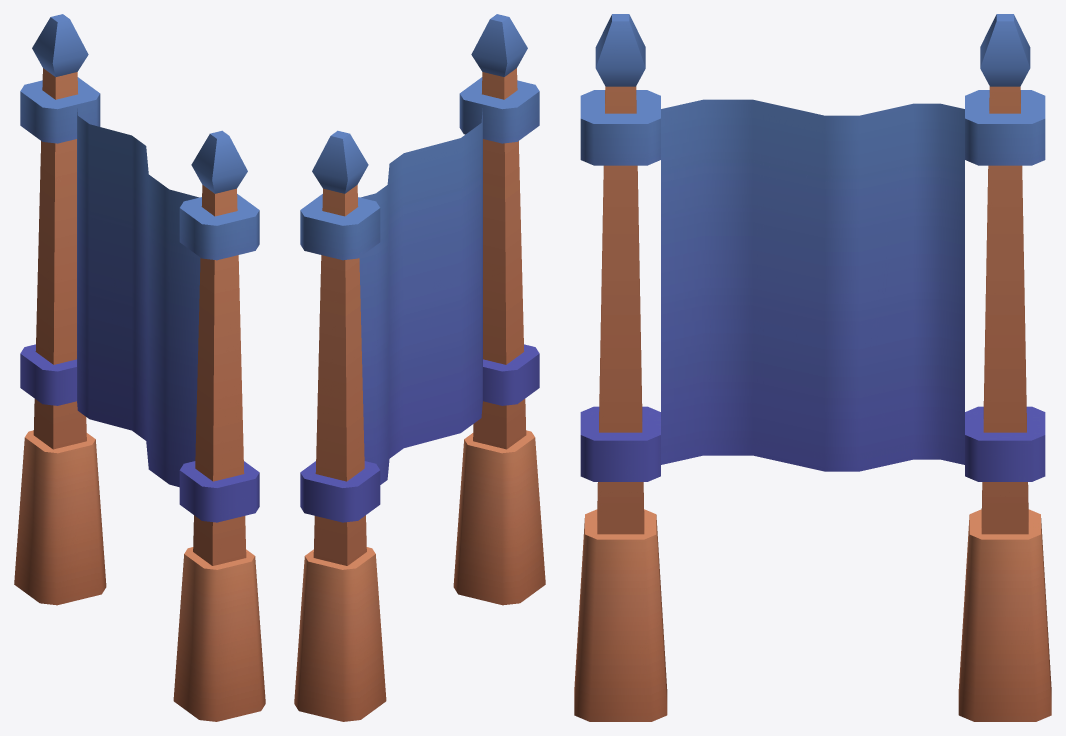
File: flag-wide.glb
3 renders of one model, left to right at view 1: azimuth 30°, elevation 25°; view 2: azimuth 150°, elevation 25°; view 3: azimuth 270°, elevation 25°, orthographic. The views are drawn at different scales.
Parts seen in each view (by area): view 1: flag-wide; view 2: flag-wide; view 3: flag-wide.
Boxes of the visible parts, x1,y1,x2,y2 form: flag-wide: [14, 14, 265, 721]; flag-wide: [294, 14, 545, 721]; flag-wide: [574, 14, 1051, 721].
Size of the model in its own units: 0.1064 by 0.8656 by 0.5469.
Materials: 1 (1 with a texture image).
